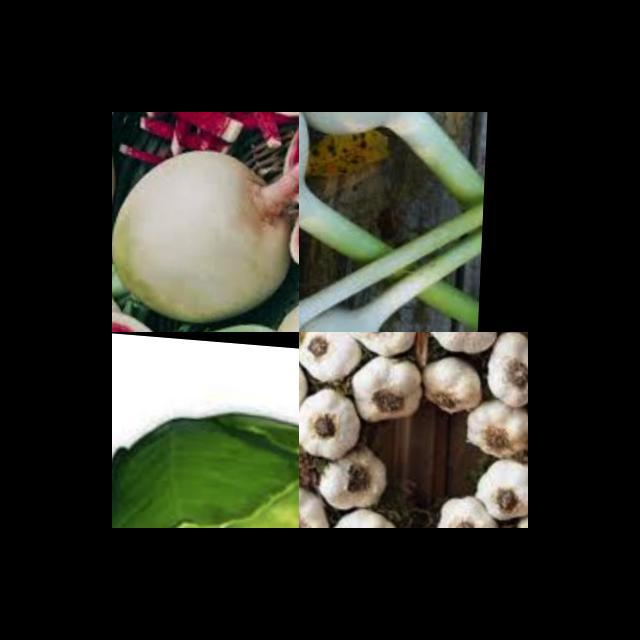cabbage: (112, 373, 299, 528)
garlic: (299, 332, 411, 528), (437, 332, 528, 528), (351, 332, 496, 423), (299, 112, 431, 149), (336, 499, 491, 528), (299, 294, 396, 332)
